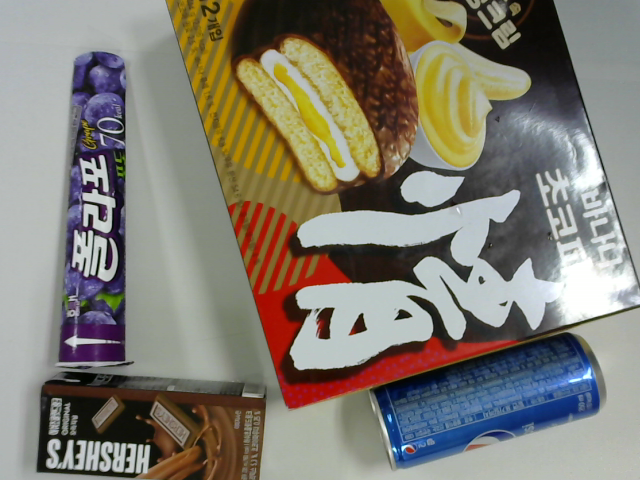Choco_Pie_Banana: (163, 1, 640, 409)
Hush_Choco_Drink: (37, 377, 269, 480)
Pepsi_Cola_Can_250ml: (373, 331, 605, 470)
Polapo_Grape: (58, 50, 133, 371)
